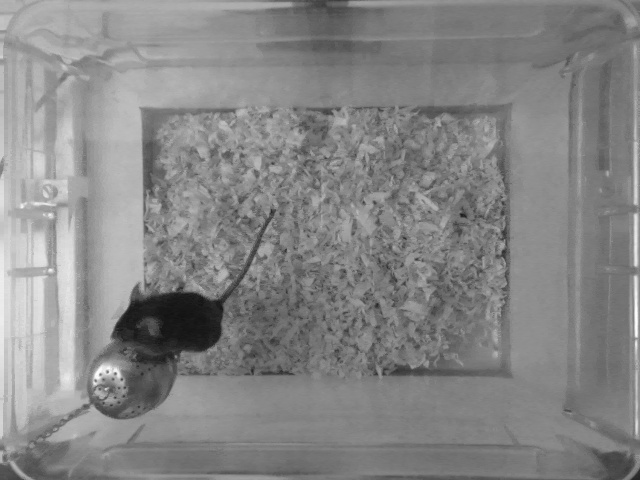mice: (110, 200, 286, 354)
